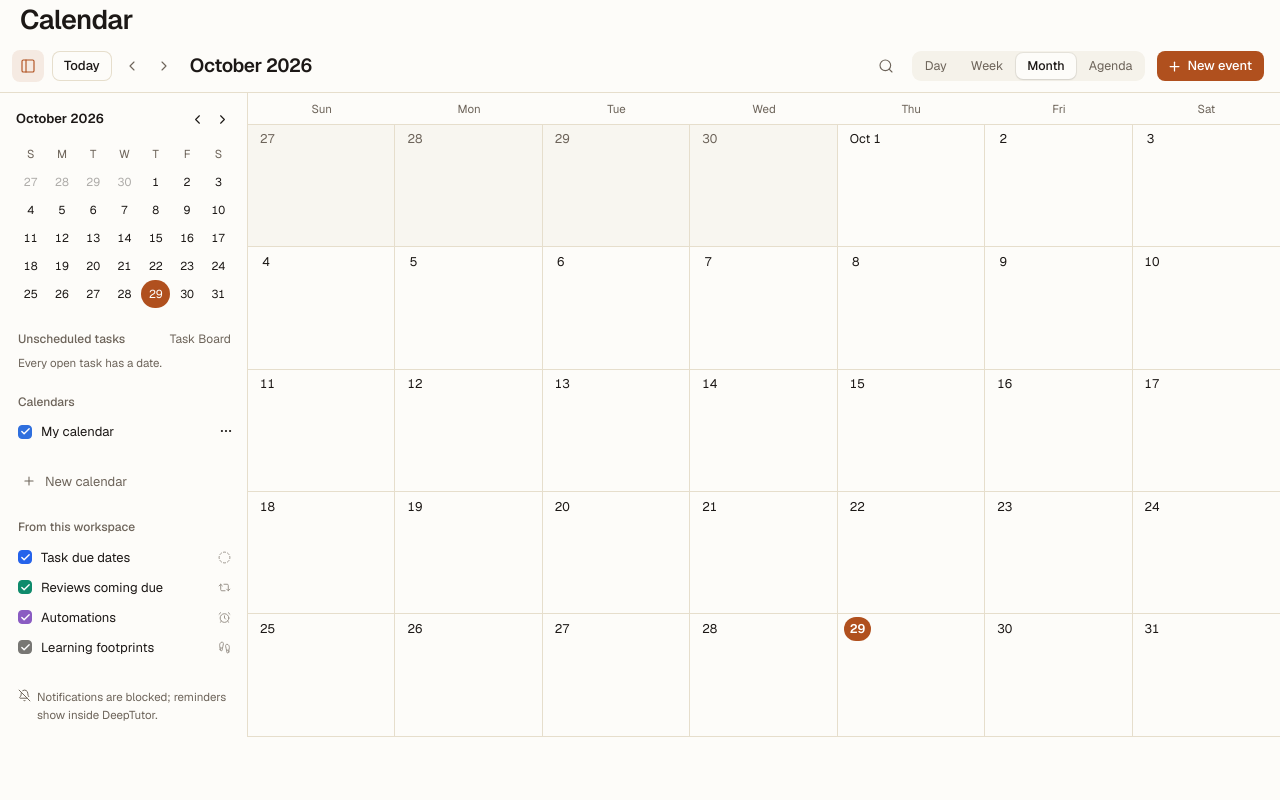
Scenario: retains the editor draft when saving fails
Click the button "New event" at (1211, 66), box [1157,51,1264,81]
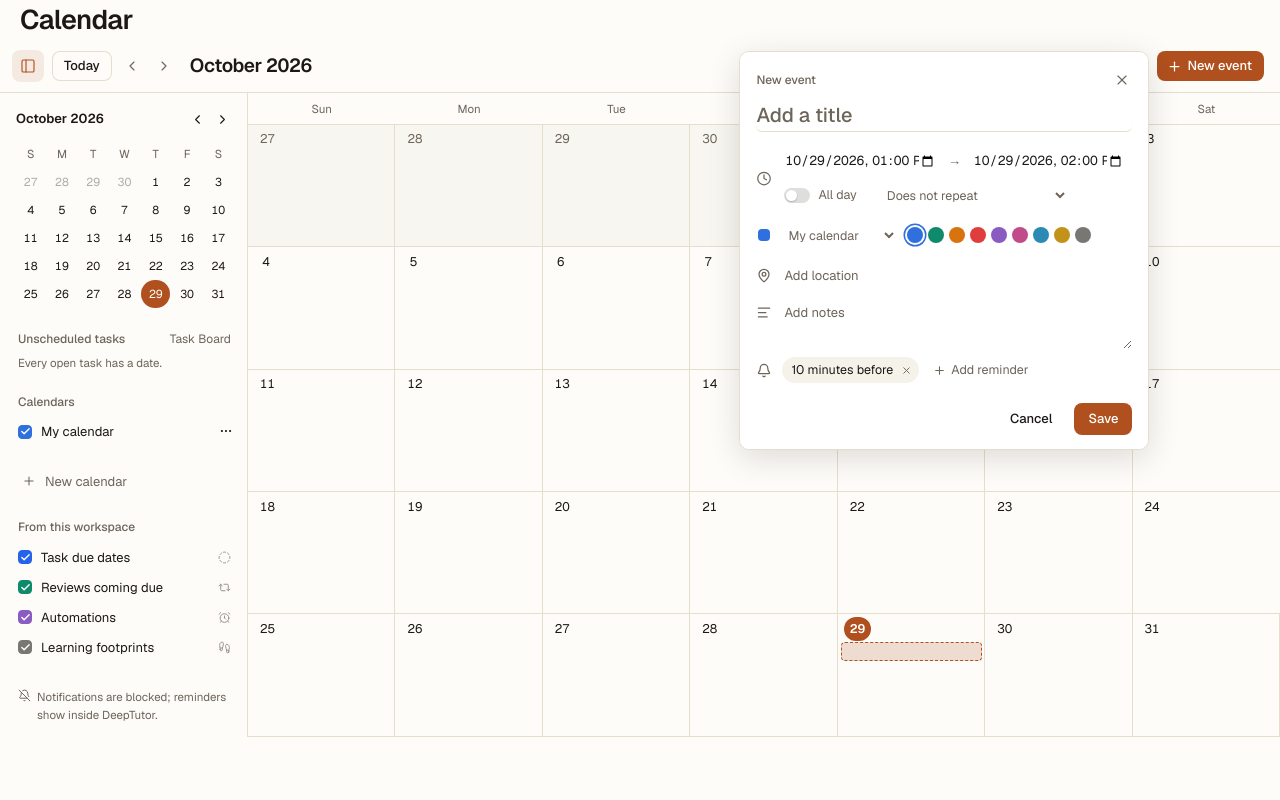
Type "Keep this draft" into the field named "Event title" at (944, 117), box [756,102,1132,132]
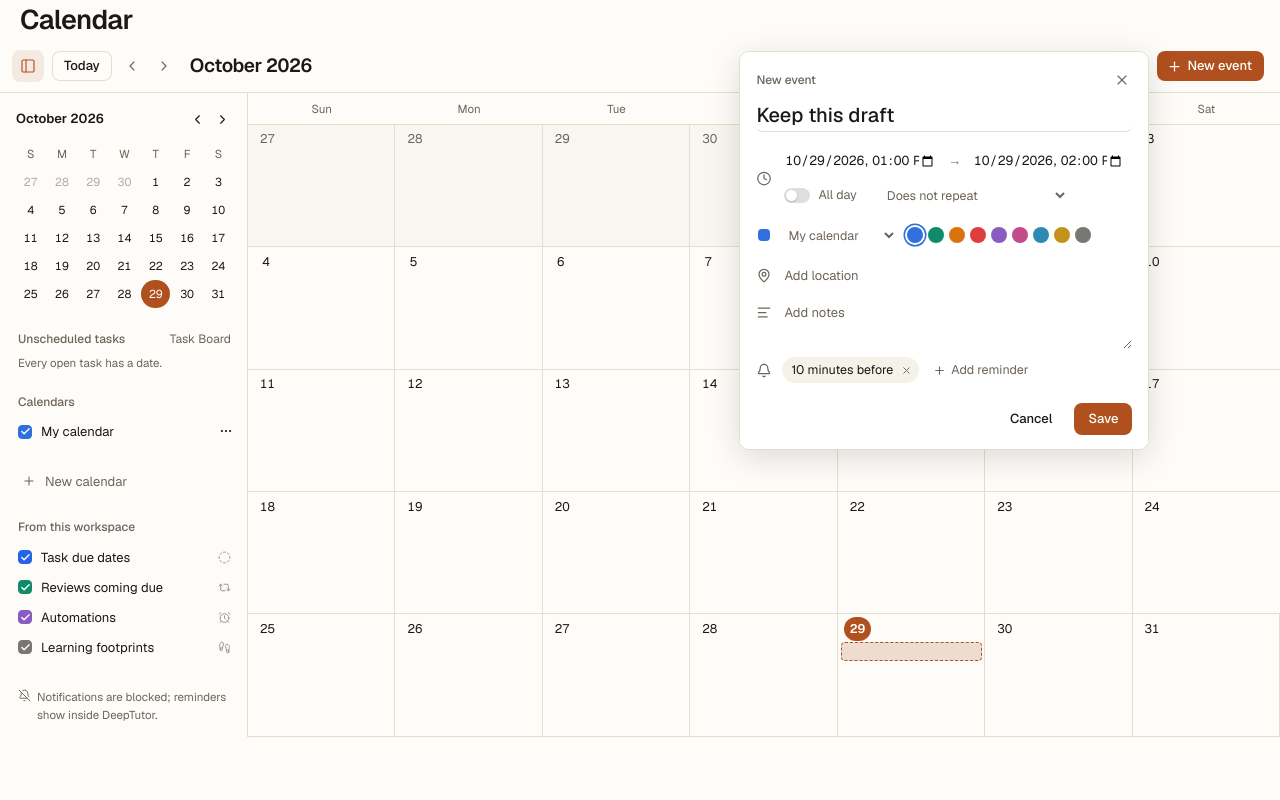
Click the button "Save" at (1103, 419), box [1074,403,1132,435]
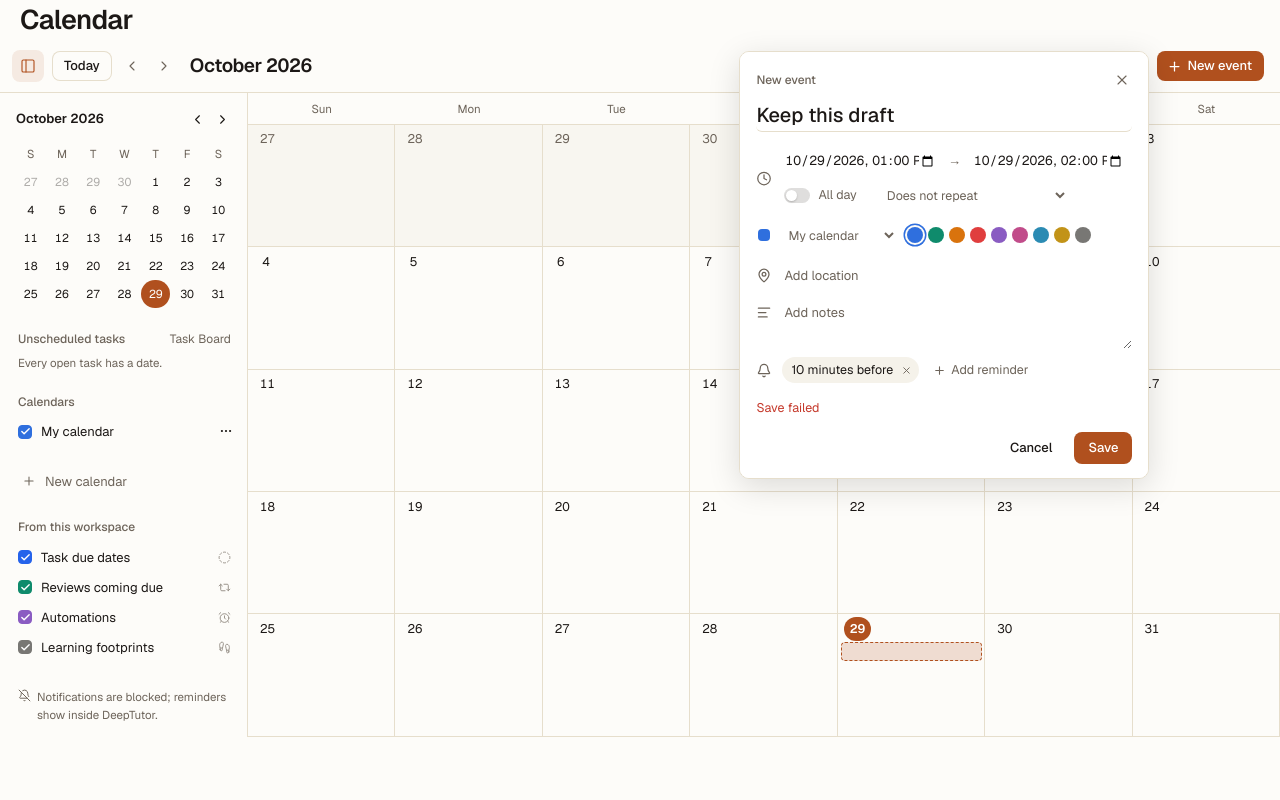
Expected: the message reads "Save failed", [756,399,820,416]
